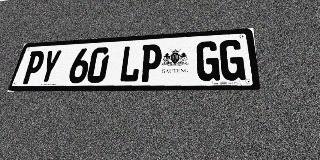0: (85, 47, 110, 83)
6: (67, 48, 92, 83)
G: (219, 39, 246, 81), (196, 41, 220, 81)
L: (118, 45, 142, 82)
P: (20, 50, 46, 84), (139, 44, 162, 82)
Y: (37, 49, 63, 84)
